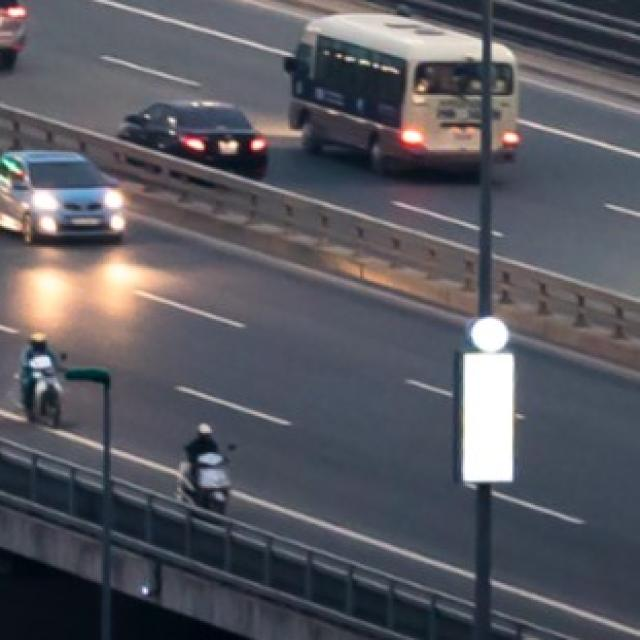bus: (284, 7, 522, 182)
car: (115, 98, 271, 181), (0, 148, 126, 245), (0, 0, 29, 66)
motorbike: (10, 330, 67, 430), (175, 424, 232, 520)
